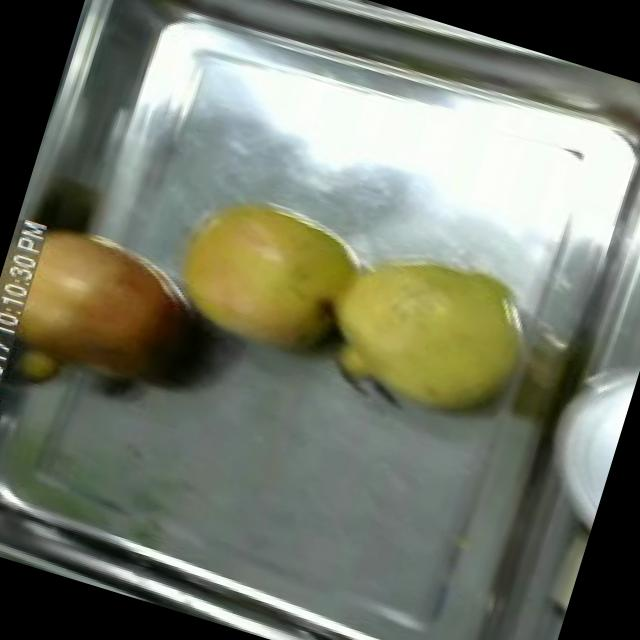fruit: (286, 210, 568, 458), (140, 161, 382, 382), (0, 194, 226, 426)
